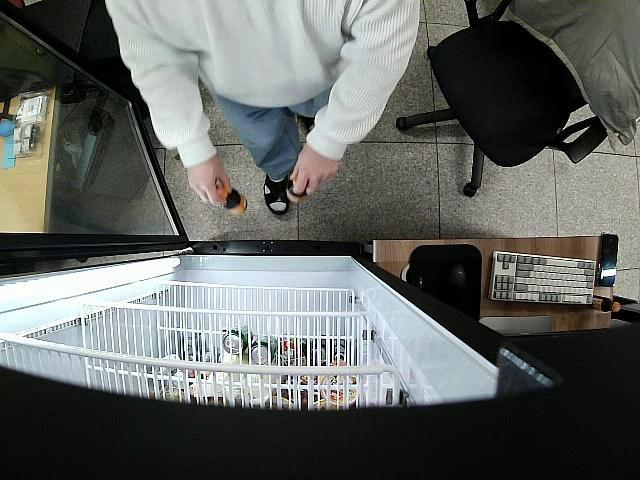17_vita500: (216, 184, 248, 214), (288, 176, 310, 204)
